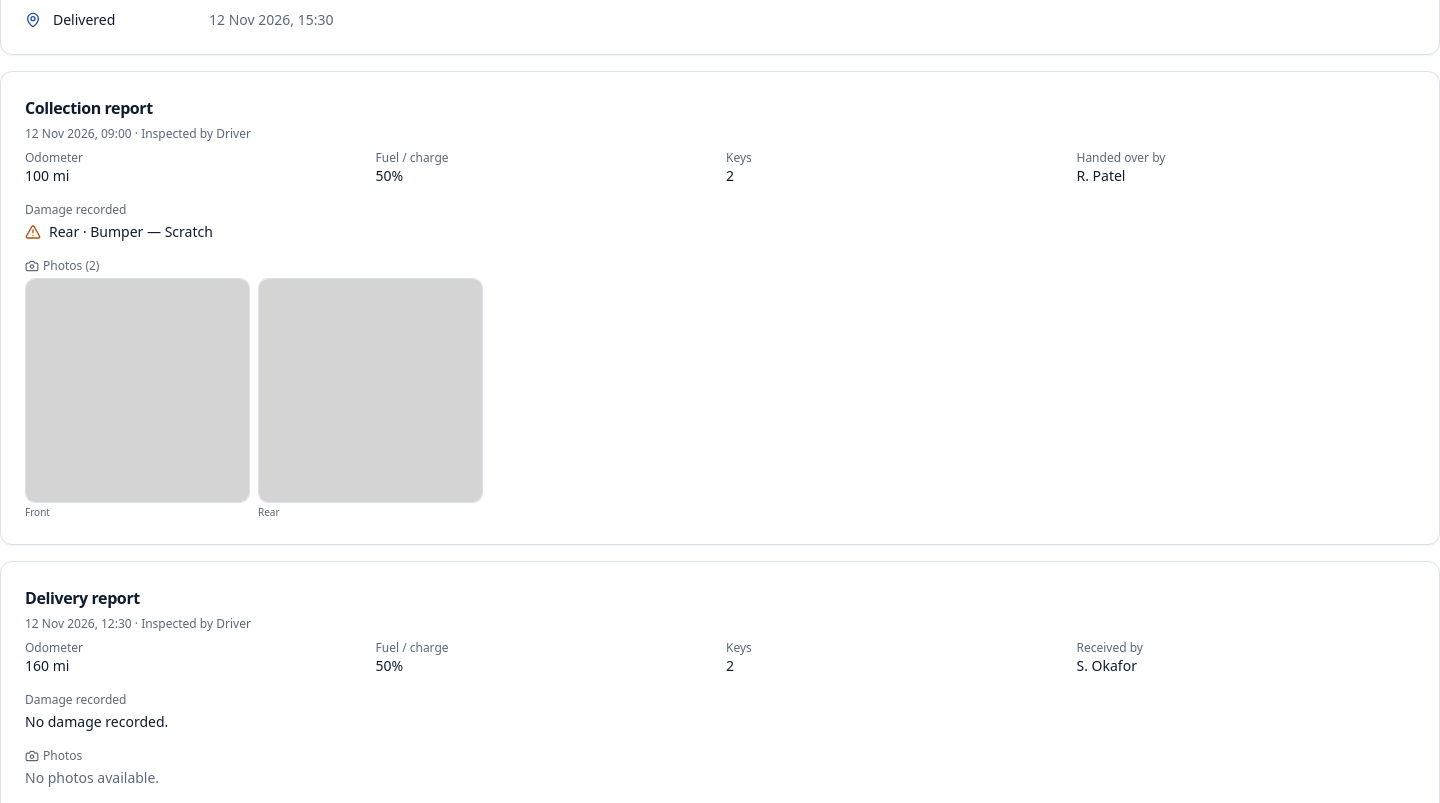
A single move › opens photos in an in-page viewer and steps through them
This screenshot has width=1440, height=803.
(page scrolled)
Click the button with aria-label "View photo: Front" at (138, 399), box x1=25 y1=278 x2=250 y2=520
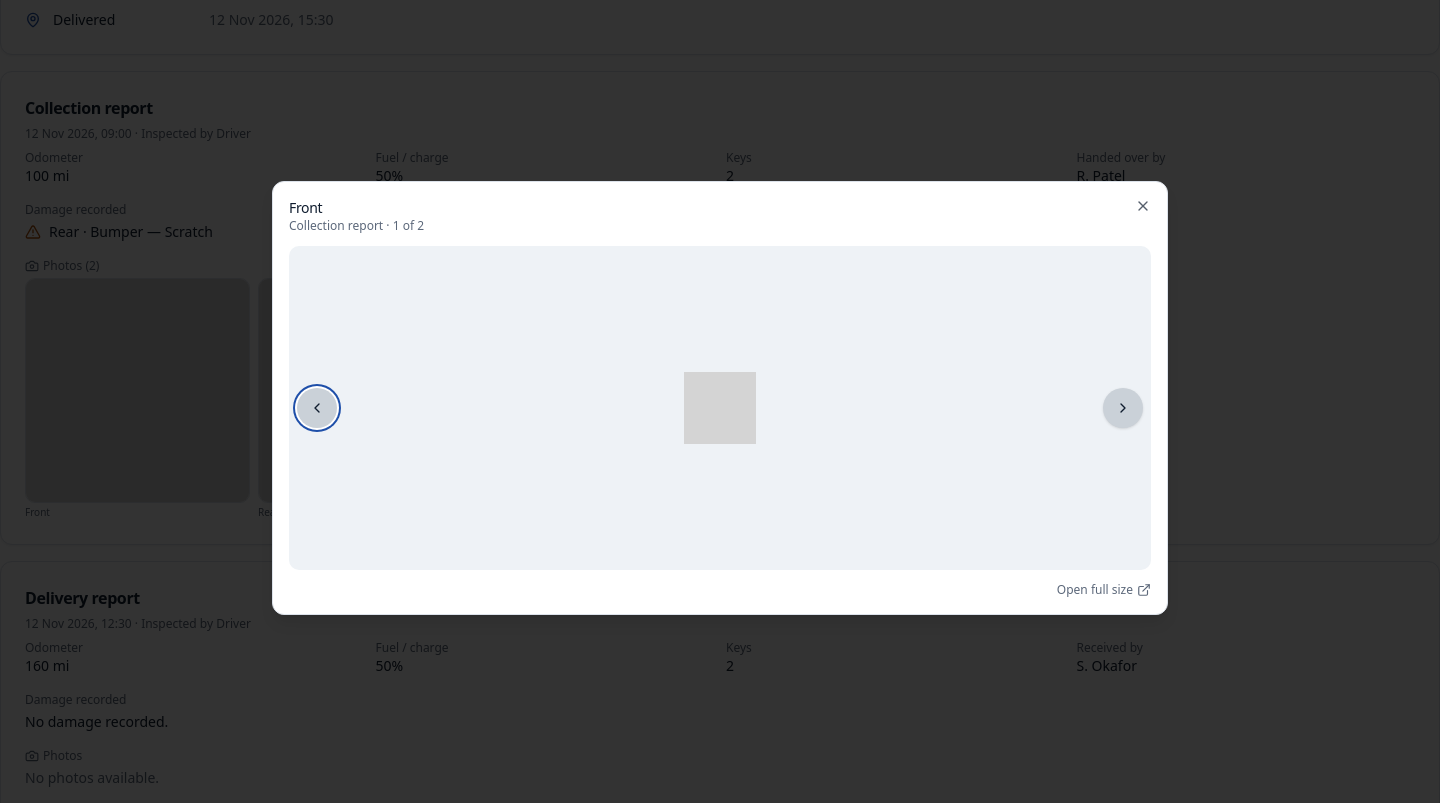
Result: the text "Collection report · 1 of 2" is shown at x1=289 y1=217 x2=424 y2=234
Click the button named "Next photo" at (1123, 408), box x1=1103 y1=388 x2=1143 y2=428
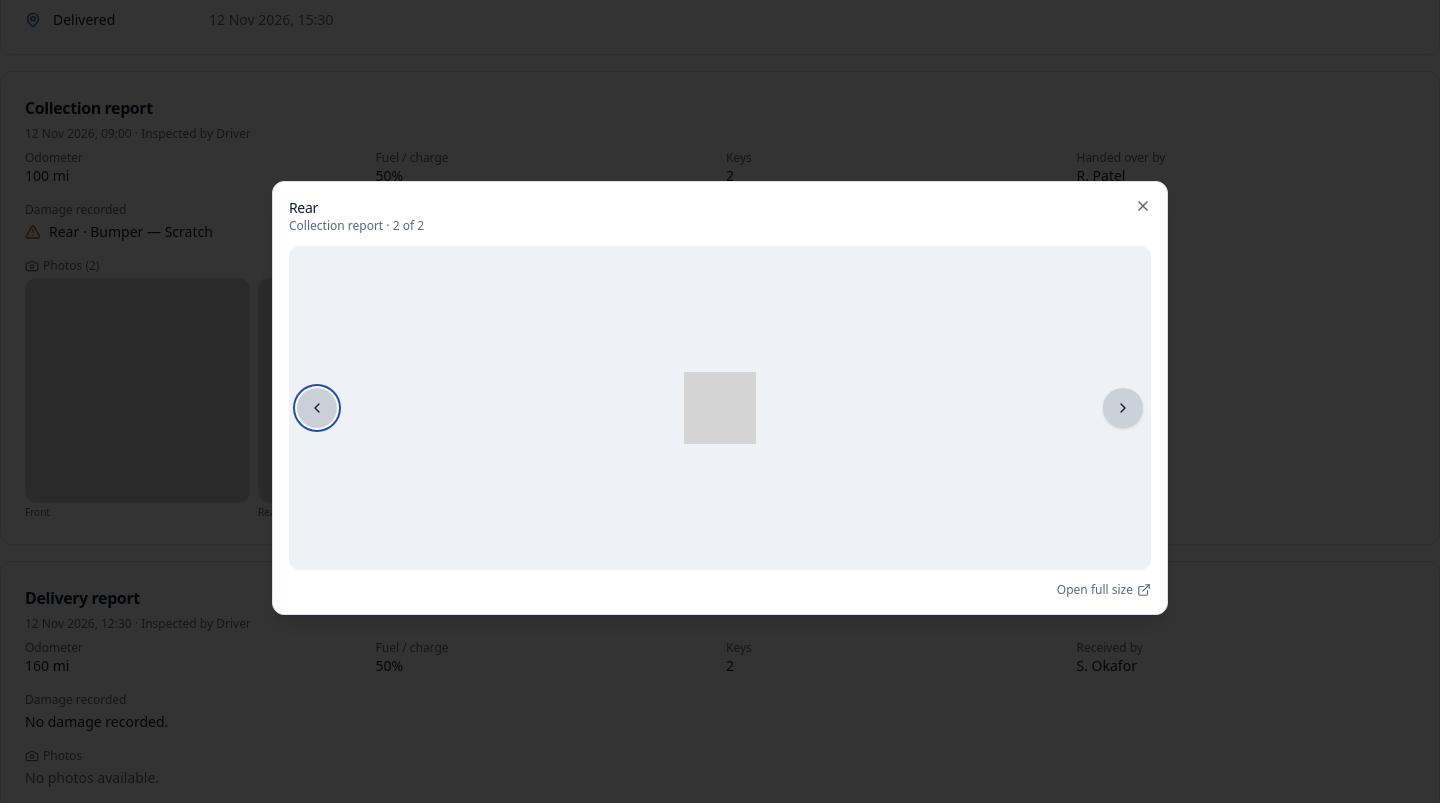
Result: the text "Collection report · 2 of 2" is shown at x1=289 y1=217 x2=424 y2=234
Press ArrowRight
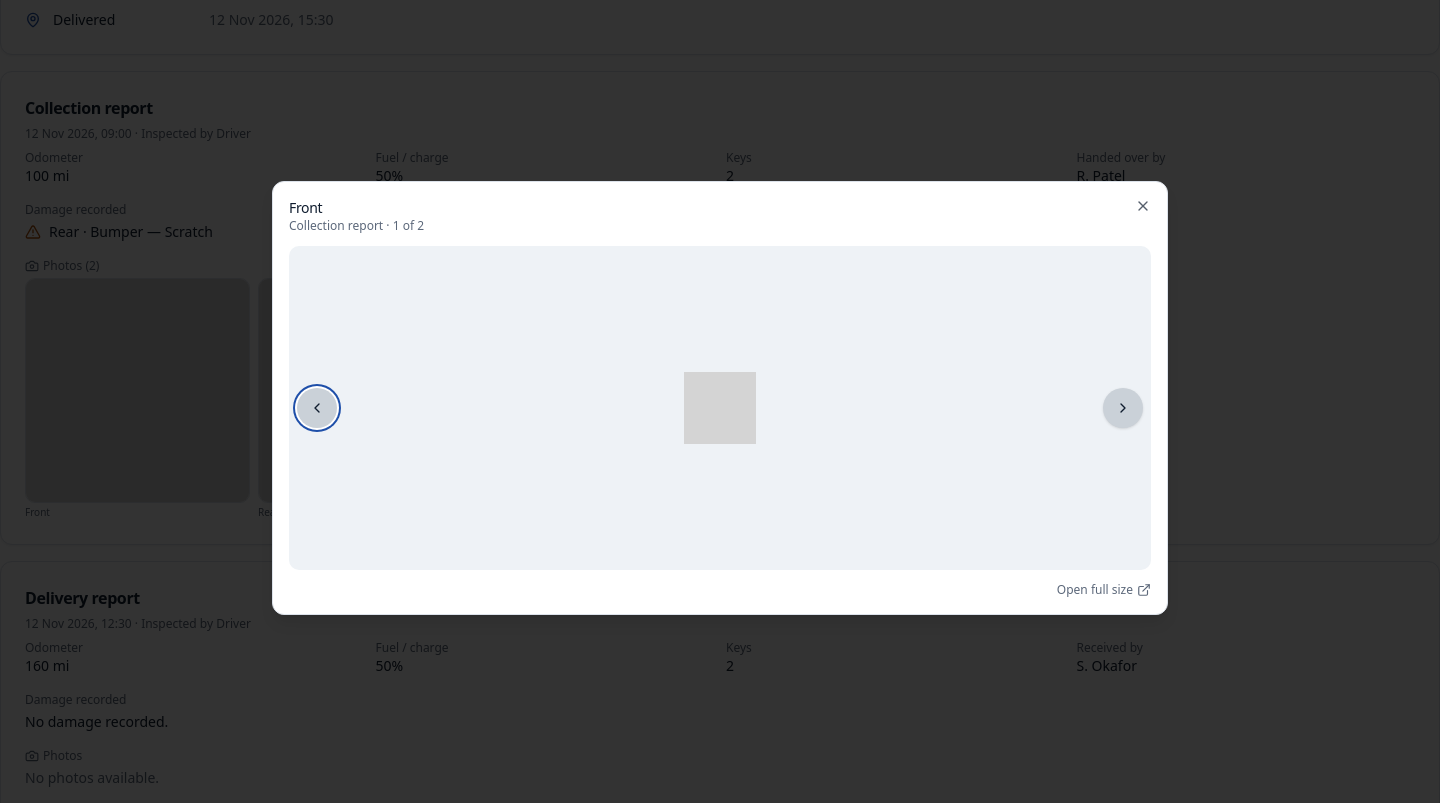
Result: the text "Collection report · 1 of 2" is shown at x1=289 y1=217 x2=424 y2=234
